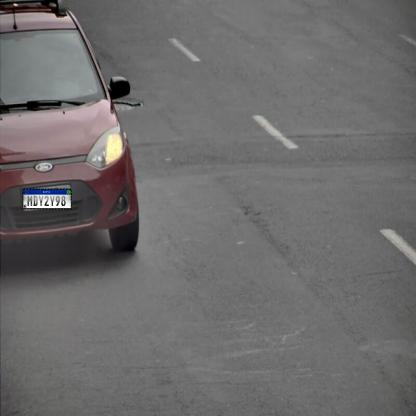PlacaM: (22, 188, 72, 210)
